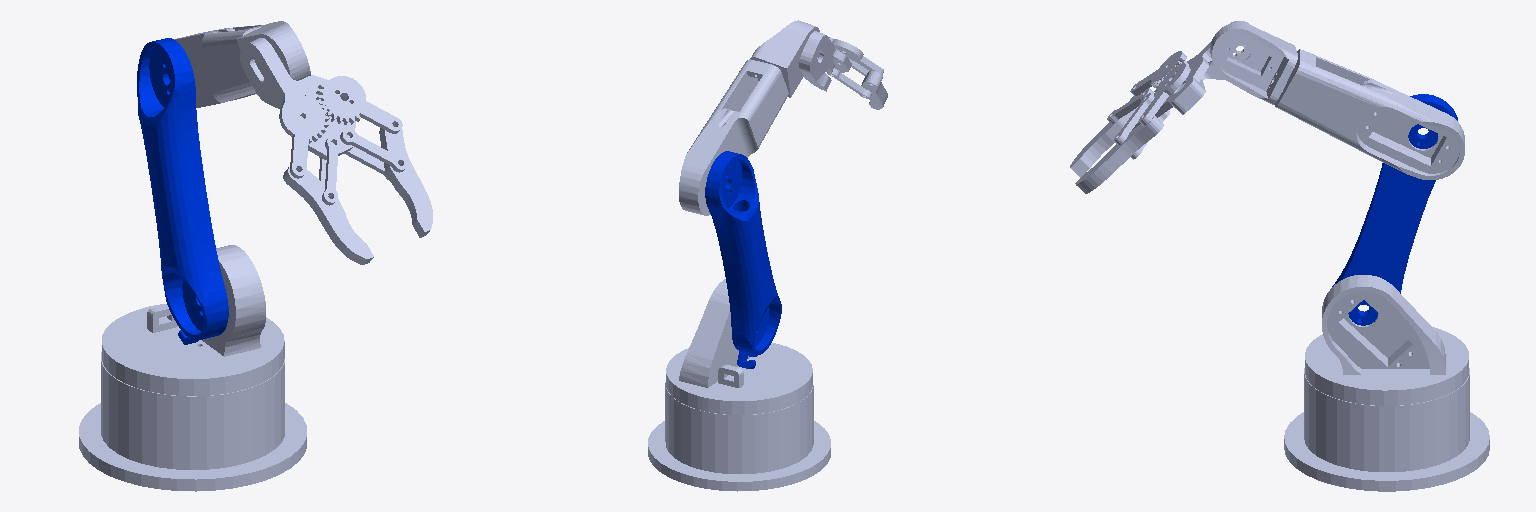
robot.urdf — RoboticArm:
<?xml version="1.0" encoding="utf-8"?>
<!-- This URDF was automatically created by SolidWorks to URDF Exporter! Originally created by [author] ([email redacted]) 
     Commit Version: 1.6.0-1-g15f4949  Build Version: 1.6.7594.29634
     For more information, please see http://wiki.ros.org/sw_urdf_exporter -->
<robot
  name="RoboticArm">
  <link
    name="base_link">
    <inertial>
      <origin
        xyz="0.0407792536350643 0.0496052423301395 0.0928795656917679"
        rpy="0 0 0" />
      <mass
        value="0.12604908910439" />
      <inertia
        ixx="0.000156906764758295"
        ixy="2.76735589435069E-22"
        ixz="1.29246970711408E-22"
        iyy="0.000259260220876787"
        iyz="3.55867639585126E-20"
        izz="0.000156906764758295" />
    </inertial>
    <visual>
      <origin
        xyz="0 0 0"
        rpy="0 0 0" />
      <geometry>
        <mesh
          filename="package://RoboticArm/meshes/base_link.STL" />
      </geometry>
      <material
        name="">
        <color
          rgba="0.792156862745098 0.819607843137255 0.933333333333333 1" />
      </material>
    </visual>
    <collision>
      <origin
        xyz="0 0 0"
        rpy="0 0 0" />
      <geometry>
        <mesh
          filename="package://RoboticArm/meshes/base_link.STL" />
      </geometry>
    </collision>
  </link>
  <link
    name="plate">
    <inertial>
      <origin
        xyz="-0.00348181803539307 0.013680039513843 -0.00110146162484924"
        rpy="0 0 0" />
      <mass
        value="0.106607057301156" />
      <inertia
        ixx="8.49969642300164E-05"
        ixy="7.31708330440521E-06"
        ixz="-1.12161447330865E-06"
        iyy="0.000105425752325564"
        iyz="6.30418300717581E-06"
        izz="7.44901951900708E-05" />
    </inertial>
    <visual>
      <origin
        xyz="0 0 0"
        rpy="0 0 0" />
      <geometry>
        <mesh
          filename="package://RoboticArm/meshes/plate.STL" />
      </geometry>
      <material
        name="">
        <color
          rgba="0.792156862745098 0.819607843137255 0.933333333333333 1" />
      </material>
    </visual>
    <collision>
      <origin
        xyz="0 0 0"
        rpy="0 0 0" />
      <geometry>
        <mesh
          filename="package://RoboticArm/meshes/plate.STL" />
      </geometry>
    </collision>
  </link>
  <joint
    name="base_to_plate"
    type="fixed">
    <origin
      xyz="0.040778 -0.092881 0.086108"
      rpy="1.5708 0 3.1416" />
    <parent
      link="base_link" />
    <child
      link="plate" />
    <axis
      xyz="0 0 0" />
  </joint>
  <link
    name="arm1">
    <inertial>
      <origin
        xyz="-0.000130107523910544 0.0585900554400583 0.00596879568554673"
        rpy="0 0 0" />
      <mass
        value="0.0643926908975187" />
      <inertia
        ixx="0.000107038200205104"
        ixy="-1.65200001443648E-09"
        ixz="2.38582116318295E-10"
        iyy="9.10999699360972E-06"
        iyz="2.39606114370457E-07"
        izz="0.000111844791293225" />
    </inertial>
    <visual>
      <origin
        xyz="0 0 0"
        rpy="0 0 0" />
      <geometry>
        <mesh
          filename="package://RoboticArm/meshes/arm1.STL" />
      </geometry>
      <material
        name="">
        <color
          rgba="0 0.254901960784314 0.92156862745098 1" />
      </material>
    </visual>
    <collision>
      <origin
        xyz="0 0 0"
        rpy="0 0 0" />
      <geometry>
        <mesh
          filename="package://RoboticArm/meshes/arm1.STL" />
      </geometry>
    </collision>
  </link>
  <joint
    name="plate_to_arm1"
    type="continuous">
    <origin
      xyz="0 0.040453 -0.013742"
      rpy="1.5708 1.2748 1.5708" />
    <parent
      link="plate" />
    <child
      link="arm1" />
    <axis
      xyz="0 0 1" />
  </joint>
  <link
    name="arm2">
    <inertial>
      <origin
        xyz="0.000277854090908025 0.0392852834270276 0.012408861309494"
        rpy="0 0 0" />
      <mass
        value="0.050268290046773" />
      <inertia
        ixx="5.46008476659968E-05"
        ixy="-6.95762442111047E-08"
        ixz="-5.70482612350729E-11"
        iyy="9.28678115786935E-06"
        iyz="-2.8752316699574E-07"
        izz="5.81489796492489E-05" />
    </inertial>
    <visual>
      <origin
        xyz="0 0 0"
        rpy="0 0 0" />
      <geometry>
        <mesh
          filename="package://RoboticArm/meshes/arm2.STL" />
      </geometry>
      <material
        name="">
        <color
          rgba="0.792156862745098 0.819607843137255 0.933333333333333 1" />
      </material>
    </visual>
    <collision>
      <origin
        xyz="0 0 0"
        rpy="0 0 0" />
      <geometry>
        <mesh
          filename="package://RoboticArm/meshes/arm2.STL" />
      </geometry>
    </collision>
  </link>
  <joint
    name="arm1_to_arm2"
    type="continuous">
    <origin
      xyz="0 0.12 0"
      rpy="3.1416 0 1.7476" />
    <parent
      link="arm1" />
    <child
      link="arm2" />
    <axis
      xyz="0 0 1" />
  </joint>
  <link
    name="littesupport">
    <inertial>
      <origin
        xyz="0.00504606327647605 0.0330023541981623 -0.00526461247520499"
        rpy="0 0 0" />
      <mass
        value="0.0164994591646359" />
      <inertia
        ixx="3.91221230465608E-06"
        ixy="1.15010694662439E-08"
        ixz="-3.99730134679921E-09"
        iyy="2.61245500437581E-06"
        iyz="5.75784785342775E-07"
        izz="5.0223585156069E-06" />
    </inertial>
    <visual>
      <origin
        xyz="0 0 0"
        rpy="0 0 0" />
      <geometry>
        <mesh
          filename="package://RoboticArm/meshes/littesupport.STL" />
      </geometry>
      <material
        name="">
        <color
          rgba="0.792156862745098 0.819607843137255 0.933333333333333 1" />
      </material>
    </visual>
    <collision>
      <origin
        xyz="0 0 0"
        rpy="0 0 0" />
      <geometry>
        <mesh
          filename="package://RoboticArm/meshes/littesupport.STL" />
      </geometry>
    </collision>
  </link>
  <joint
    name="arm2_to_litte_support"
    type="continuous">
    <origin
      xyz="-0.00505 0.076439 0.0125"
      rpy="0 0.17623 0" />
    <parent
      link="arm2" />
    <child
      link="littesupport" />
    <axis
      xyz="0 1 0" />
  </joint>
  <link
    name="littlesupport2">
    <inertial>
      <origin
        xyz="-0.0133733891093217 0.00581676496775496 0.0235511327187966"
        rpy="0 0 0" />
      <mass
        value="0.0157213996969813" />
      <inertia
        ixx="7.24744416899929E-06"
        ixy="-3.50347180867032E-07"
        ixz="-1.42854822214762E-06"
        iyy="8.11576195233211E-06"
        iyz="-1.36413025460123E-06"
        izz="2.5604584481162E-06" />
    </inertial>
    <visual>
      <origin
        xyz="0 0 0"
        rpy="0 0 0" />
      <geometry>
        <mesh
          filename="package://RoboticArm/meshes/littlesupport2.STL" />
      </geometry>
      <material
        name="">
        <color
          rgba="0.792156862745098 0.819607843137255 0.933333333333333 1" />
      </material>
    </visual>
    <collision>
      <origin
        xyz="0 0 0"
        rpy="0 0 0" />
      <geometry>
        <mesh
          filename="package://RoboticArm/meshes/littlesupport2.STL" />
      </geometry>
    </collision>
  </link>
  <joint
    name="littlesupport_to_littlesupport2"
    type="continuous">
    <origin
      xyz="0.005 0.043161 0"
      rpy="-0.41033 -1.5708 0.08758" />
    <parent
      link="littesupport" />
    <child
      link="littlesupport2" />
    <axis
      xyz="1 0 0" />
  </joint>
  <link
    name="geerright">
    <inertial>
      <origin
        xyz="-0.0501100983998741 0.0195 0.00284347811315948"
        rpy="0 0 0" />
      <mass
        value="0.00256585966934386" />
      <inertia
        ixx="9.68714144297744E-08"
        ixy="-5.62482816536059E-23"
        ixz="4.46722226156503E-08"
        iyy="4.46162551545417E-07"
        iyz="-5.9557004103818E-23"
        izz="3.56133429567227E-07" />
    </inertial>
    <visual>
      <origin
        xyz="0 0 0"
        rpy="0 0 0" />
      <geometry>
        <mesh
          filename="package://RoboticArm/meshes/geerright.STL" />
      </geometry>
      <material
        name="">
        <color
          rgba="0.792156862745098 0.819607843137255 0.933333333333333 1" />
      </material>
    </visual>
    <collision>
      <origin
        xyz="0 0 0"
        rpy="0 0 0" />
      <geometry>
        <mesh
          filename="package://RoboticArm/meshes/geerright.STL" />
      </geometry>
    </collision>
  </link>
  <joint
    name="littlesupport2_to_geerright"
    type="continuous">
    <origin
      xyz="-0.0206 0 0"
      rpy="3.1416 1.0844 3.1416" />
    <parent
      link="littlesupport2" />
    <child
      link="geerright" />
    <axis
      xyz="0.46742 0 -0.88403" />
  </joint>
  <link
    name="grabberr1">
    <inertial>
      <origin
        xyz="0.0132500225891743 0.0533645569241495 -0.0744786360385295"
        rpy="0 0 0" />
      <mass
        value="0.00539747492540316" />
      <inertia
        ixx="1.7139173615087E-06"
        ixy="1.25016368783866E-11"
        ixz="6.52045109329271E-12"
        iyy="1.59582906541738E-06"
        iyz="3.73412274090843E-07"
        izz="1.83082846319442E-07" />
    </inertial>
    <visual>
      <origin
        xyz="0 0 0"
        rpy="0 0 0" />
      <geometry>
        <mesh
          filename="package://RoboticArm/meshes/grabberr1.STL" />
      </geometry>
      <material
        name="">
        <color
          rgba="0.792156862745098 0.819607843137255 0.933333333333333 1" />
      </material>
    </visual>
    <collision>
      <origin
        xyz="0 0 0"
        rpy="0 0 0" />
      <geometry>
        <mesh
          filename="package://RoboticArm/meshes/grabberr1.STL" />
      </geometry>
    </collision>
  </link>
  <joint
    name="geerr_to_grabber"
    type="continuous">
    <origin
      xyz="-0.0070176 0 0.013272"
      rpy="0.67604 0 1.5708" />
    <parent
      link="geerright" />
    <child
      link="grabberr1" />
    <axis
      xyz="0 0.91776 0.39713" />
  </joint>
  <link
    name="geerleft">
    <inertial>
      <origin
        xyz="0.0474029973313519 0.0194999999999996 -0.00744274420445752"
        rpy="0 0 0" />
      <mass
        value="0.00264161328462975" />
      <inertia
        ixx="9.00461116469698E-08"
        ixy="5.62482816536059E-23"
        ixz="-9.25740848878218E-09"
        iyy="4.472396674933E-07"
        iyz="6.61744490042422E-24"
        izz="3.64237857938676E-07" />
    </inertial>
    <visual>
      <origin
        xyz="0 0 0"
        rpy="0 0 0" />
      <geometry>
        <mesh
          filename="package://RoboticArm/meshes/geerleft.STL" />
      </geometry>
      <material
        name="">
        <color
          rgba="0.792156862745098 0.819607843137255 0.933333333333333 1" />
      </material>
    </visual>
    <collision>
      <origin
        xyz="0 0 0"
        rpy="0 0 0" />
      <geometry>
        <mesh
          filename="package://RoboticArm/meshes/geerleft.STL" />
      </geometry>
    </collision>
  </link>
  <joint
    name="littlesupport2_to_geerleft"
    type="continuous">
    <origin
      xyz="-0.0055866 0 0"
      rpy="3.1416 -0.95002 3.1416" />
    <parent
      link="littlesupport2" />
    <child
      link="geerleft" />
    <axis
      xyz="0.58167 0 0.81343" />
  </joint>
  <link
    name="grabberl1">
    <inertial>
      <origin
        xyz="-0.0132499774170393 0.0584441281939657 -0.0731843213818451"
        rpy="0 0 0" />
      <mass
        value="0.00539747241029236" />
      <inertia
        ixx="1.71391105519726E-06"
        ixy="1.25534085234425E-11"
        ixz="6.53217985819288E-12"
        iyy="1.59582707278213E-06"
        iyz="3.73412926182567E-07"
        izz="1.83078515204332E-07" />
    </inertial>
    <visual>
      <origin
        xyz="0 0 0"
        rpy="0 0 0" />
      <geometry>
        <mesh
          filename="package://RoboticArm/meshes/grabberl1.STL" />
      </geometry>
      <material
        name="">
        <color
          rgba="0.792156862745098 0.819607843137255 0.933333333333333 1" />
      </material>
    </visual>
    <collision>
      <origin
        xyz="0 0 0"
        rpy="0 0 0" />
      <geometry>
        <mesh
          filename="package://RoboticArm/meshes/grabberl1.STL" />
      </geometry>
    </collision>
  </link>
  <joint
    name="geerleft_to_grabberl"
    type="continuous">
    <origin
      xyz="0.0021927 0 0.0030663"
      rpy="0.56951 0 -1.5708" />
    <parent
      link="geerleft" />
    <child
      link="grabberl1" />
    <axis
      xyz="0 0.92847 0.3714" />
  </joint>
  <link
    name="suppright">
    <inertial>
      <origin
        xyz="-0.0676291985647798 0.0195000000000004 -0.0267734029268266"
        rpy="0 0 0" />
      <mass
        value="0.000798762413184688" />
      <inertia
        ixx="3.63250422363009E-09"
        ixy="-4.1876018510497E-23"
        ixz="-9.02660843448491E-23"
        iyy="1.04424225659603E-07"
        iyz="6.61744490042422E-24"
        izz="1.02921754537799E-07" />
    </inertial>
    <visual>
      <origin
        xyz="0 0 0"
        rpy="0 0 0" />
      <geometry>
        <mesh
          filename="package://RoboticArm/meshes/suppright.STL" />
      </geometry>
      <material
        name="">
        <color
          rgba="0.792156862745098 0.819607843137255 0.933333333333333 1" />
      </material>
    </visual>
    <collision>
      <origin
        xyz="0 0 0"
        rpy="0 0 0" />
      <geometry>
        <mesh
          filename="package://RoboticArm/meshes/suppright.STL" />
      </geometry>
    </collision>
  </link>
  <joint
    name="suppright_to_grabber"
    type="continuous">
    <origin
      xyz="-0.014733 0 0"
      rpy="3.1416 0.9528 -3.1416" />
    <parent
      link="littlesupport2" />
    <child
      link="suppright" />
    <axis
      xyz="0.57941 0 -0.81504" />
  </joint>
  <link
    name="grabberr2">
    <inertial>
      <origin
        xyz="0.0132500225891743 0.0533645569241495 -0.0744786360385295"
        rpy="0 0 0" />
      <mass
        value="0.00539747492540316" />
      <inertia
        ixx="1.7139173615087E-06"
        ixy="1.25016368783899E-11"
        ixz="6.5204510932497E-12"
        iyy="1.59582906541738E-06"
        iyz="3.73412274090843E-07"
        izz="1.83082846319442E-07" />
    </inertial>
    <visual>
      <origin
        xyz="0 0 0"
        rpy="0 0 0" />
      <geometry>
        <mesh
          filename="package://RoboticArm/meshes/grabberr2.STL" />
      </geometry>
      <material
        name="">
        <color
          rgba="0.792156862745098 0.819607843137255 0.933333333333333 1" />
      </material>
    </visual>
    <collision>
      <origin
        xyz="0 0 0"
        rpy="0 0 0" />
      <geometry>
        <mesh
          filename="package://RoboticArm/meshes/grabberr2.STL" />
      </geometry>
    </collision>
  </link>
  <joint
    name="sur_to_grabber"
    type="continuous">
    <origin
      xyz="-0.0052992 0 0.0074543"
      rpy="0.54441 0 1.5708" />
    <parent
      link="suppright" />
    <child
      link="grabberr2" />
    <axis
      xyz="0 0.91776 0.39713" />
  </joint>
  <link
    name="suppleft">
    <inertial>
      <origin
        xyz="-0.0654875920394475 -0.0195000000000002 -0.0297111609337834"
        rpy="0 0 0" />
      <mass
        value="0.000798762413184692" />
      <inertia
        ixx="3.63250422363012E-09"
        ixy="-9.0989867380833E-24"
        ixz="5.46456192167844E-23"
        iyy="1.04424225659604E-07"
        iyz="0"
        izz="1.02921754537799E-07" />
    </inertial>
    <visual>
      <origin
        xyz="0 0 0"
        rpy="0 0 0" />
      <geometry>
        <mesh
          filename="package://RoboticArm/meshes/suppleft.STL" />
      </geometry>
      <material
        name="">
        <color
          rgba="0.792156862745098 0.819607843137255 0.933333333333333 1" />
      </material>
    </visual>
    <collision>
      <origin
        xyz="0 0 0"
        rpy="0 0 0" />
      <geometry>
        <mesh
          filename="package://RoboticArm/meshes/suppleft.STL" />
      </geometry>
    </collision>
  </link>
  <joint
    name="suppleft_to_grabber"
    type="continuous">
    <origin
      xyz="-0.012165 0 0"
      rpy="-3.1416 0.9625 0" />
    <parent
      link="littlesupport2" />
    <child
      link="suppleft" />
    <axis
      xyz="0.57147 0 -0.82062" />
  </joint>
  <link
    name="grabberl2">
    <inertial>
      <origin
        xyz="-0.0132499774170393 0.0584441281939657 -0.0731843213818451"
        rpy="0 0 0" />
      <mass
        value="0.00539747241029236" />
      <inertia
        ixx="1.71391105519726E-06"
        ixy="1.25534085233366E-11"
        ixz="6.53217985833516E-12"
        iyy="1.59582707278213E-06"
        iyz="3.73412926182567E-07"
        izz="1.83078515204332E-07" />
    </inertial>
    <visual>
      <origin
        xyz="0 0 0"
        rpy="0 0 0" />
      <geometry>
        <mesh
          filename="package://RoboticArm/meshes/grabberl2.STL" />
      </geometry>
      <material
        name="">
        <color
          rgba="0.792156862745098 0.819607843137255 0.933333333333333 1" />
      </material>
    </visual>
    <collision>
      <origin
        xyz="0 0 0"
        rpy="0 0 0" />
      <geometry>
        <mesh
          filename="package://RoboticArm/meshes/grabberl2.STL" />
      </geometry>
    </collision>
  </link>
  <joint
    name="sul_to_grabberl"
    type="continuous">
    <origin
      xyz="0.0016052 0 -0.0023051"
      rpy="0.58199 0 1.5708" />
    <parent
      link="suppleft" />
    <child
      link="grabberl2" />
    <axis
      xyz="0 0.92847 0.3714" />
  </joint>
  <link
    name="supprightdown">
    <inertial>
      <origin
        xyz="-0.0676291985647792 0.00700000000000012 -0.0267734029268272"
        rpy="0 0 0" />
      <mass
        value="0.000798762413184691" />
      <inertia
        ixx="3.63250422363008E-09"
        ixy="-2.85377311330795E-23"
        ixz="-4.81884405600423E-22"
        iyy="1.04424225659604E-07"
        iyz="3.30872245021211E-24"
        izz="1.02921754537799E-07" />
    </inertial>
    <visual>
      <origin
        xyz="0 0 0"
        rpy="0 0 0" />
      <geometry>
        <mesh
          filename="package://RoboticArm/meshes/supprightdown.STL" />
      </geometry>
      <material
        name="">
        <color
          rgba="0.792156862745098 0.819607843137255 0.933333333333333 1" />
      </material>
    </visual>
    <collision>
      <origin
        xyz="0 0 0"
        rpy="0 0 0" />
      <geometry>
        <mesh
          filename="package://RoboticArm/meshes/supprightdown.STL" />
      </geometry>
    </collision>
  </link>
  <joint
    name="supprightdown_to_grabber"
    type="continuous">
    <origin
      xyz="-0.014733 0 0"
      rpy="3.1416 0.9528 -3.1416" />
    <parent
      link="littlesupport2" />
    <child
      link="supprightdown" />
    <axis
      xyz="0.57941 0 -0.81504" />
  </joint>
  <link
    name="grabberr3">
    <inertial>
      <origin
        xyz="0.0132500225891743 0.0533645569241495 -0.0744786360385295"
        rpy="0 0 0" />
      <mass
        value="0.00539747492540316" />
      <inertia
        ixx="1.7139173615087E-06"
        ixy="1.25016368783866E-11"
        ixz="6.52045109329271E-12"
        iyy="1.59582906541738E-06"
        iyz="3.73412274090843E-07"
        izz="1.83082846319442E-07" />
    </inertial>
    <visual>
      <origin
        xyz="0 0 0"
        rpy="0 0 0" />
      <geometry>
        <mesh
          filename="package://RoboticArm/meshes/grabberr3.STL" />
      </geometry>
      <material
        name="">
        <color
          rgba="0.792156862745098 0.819607843137255 0.933333333333333 1" />
      </material>
    </visual>
    <collision>
      <origin
        xyz="0 0 0"
        rpy="0 0 0" />
      <geometry>
        <mesh
          filename="package://RoboticArm/meshes/grabberr3.STL" />
      </geometry>
    </collision>
  </link>
  <joint
    name="sdr_to_grabber"
    type="continuous">
    <origin
      xyz="-0.0052992 0 0.0074543"
      rpy="0.54441 0 1.5708" />
    <parent
      link="supprightdown" />
    <child
      link="grabberr3" />
    <axis
      xyz="0 0.91776 0.39713" />
  </joint>
  <link
    name="suppleftdown">
    <inertial>
      <origin
        xyz="-0.0654875920394477 0.00700000000000045 0.0297111609337833"
        rpy="0 0 0" />
      <mass
        value="0.00079876241318469" />
      <inertia
        ixx="3.63250422363011E-09"
        ixy="1.62468612063072E-21"
        ixz="-2.32075860609409E-22"
        iyy="1.04424225659604E-07"
        iyz="1.81979734761666E-23"
        izz="1.02921754537799E-07" />
    </inertial>
    <visual>
      <origin
        xyz="0 0 0"
        rpy="0 0 0" />
      <geometry>
        <mesh
          filename="package://RoboticArm/meshes/suppleftdown.STL" />
      </geometry>
      <material
        name="">
        <color
          rgba="0.792156862745098 0.819607843137255 0.933333333333333 1" />
      </material>
    </visual>
    <collision>
      <origin
        xyz="0 0 0"
        rpy="0 0 0" />
      <geometry>
        <mesh
          filename="package://RoboticArm/meshes/suppleftdown.STL" />
      </geometry>
    </collision>
  </link>
  <joint
    name="suppleftdown_to_grabber"
    type="continuous">
    <origin
      xyz="-0.012165 0 0"
      rpy="0 0.9625 0" />
    <parent
      link="littlesupport2" />
    <child
      link="suppleftdown" />
    <axis
      xyz="0.57147 0 0.82062" />
  </joint>
  <link
    name="grabberl3">
    <inertial>
      <origin
        xyz="-0.0132499774170393 0.0584441281939657 -0.0731843213818451"
        rpy="0 0 0" />
      <mass
        value="0.00539747241029236" />
      <inertia
        ixx="1.71391105519726E-06"
        ixy="1.25534085233366E-11"
        ixz="6.53217985833516E-12"
        iyy="1.59582707278213E-06"
        iyz="3.73412926182567E-07"
        izz="1.83078515204332E-07" />
    </inertial>
    <visual>
      <origin
        xyz="0 0 0"
        rpy="0 0 0" />
      <geometry>
        <mesh
          filename="package://RoboticArm/meshes/grabberl3.STL" />
      </geometry>
      <material
        name="">
        <color
          rgba="0.792156862745098 0.819607843137255 0.933333333333333 1" />
      </material>
    </visual>
    <collision>
      <origin
        xyz="0 0 0"
        rpy="0 0 0" />
      <geometry>
        <mesh
          filename="package://RoboticArm/meshes/grabberl3.STL" />
      </geometry>
    </collision>
  </link>
  <joint
    name="sdl_to_grabber"
    type="continuous">
    <origin
      xyz="0.0016052 0 0.0023051"
      rpy="-2.5596 0 -1.5708" />
    <parent
      link="suppleftdown" />
    <child
      link="grabberl3" />
    <axis
      xyz="0 0.92847 0.3714" />
  </joint>
</robot>

--- Facts derived from the render (not from the file) ---
The picture shows the robot from 3 angles, left to right: view 1: azimuth 30°, elevation 25°; view 2: azimuth 150°, elevation 25°; view 3: azimuth 270°, elevation 25°; orthographic projection.
Robot: RoboticArm — 18 links, 17 joints (16 continuous, 1 fixed); root link base_link; default pose: every joint at zero.
Links seen in each view (by area): view 1: base_link, arm1, plate, arm2, littlesupport2, grabberl1, geerright, geerleft, grabberr1, littesupport, suppright, suppleft; view 2: base_link, plate, arm1, arm2, littesupport, littlesupport2, grabberl1, geerleft; view 3: base_link, plate, arm2, arm1, littesupport, littlesupport2, grabberr1, grabberl1, geerright, geerleft, suppright.
Link boxes in pixels (bbox=[...]): base_link: bbox=[79, 352, 306, 491]; arm1: bbox=[137, 38, 228, 344]; plate: bbox=[102, 245, 284, 395]; arm2: bbox=[174, 24, 266, 107]; littlesupport2: bbox=[240, 38, 355, 159]; grabberl1: bbox=[283, 166, 373, 264]; geerright: bbox=[316, 76, 402, 133]; geerleft: bbox=[279, 92, 329, 178]; grabberr1: bbox=[379, 124, 432, 237]; littesupport: bbox=[236, 21, 310, 80]; suppright: bbox=[340, 128, 407, 172]; suppleft: bbox=[322, 135, 341, 205]; base_link: bbox=[648, 382, 830, 491]; plate: bbox=[666, 279, 812, 414]; arm1: bbox=[705, 151, 781, 368]; arm2: bbox=[679, 59, 788, 215]; littesupport: bbox=[750, 20, 819, 97]; littlesupport2: bbox=[799, 31, 851, 80]; grabberl1: bbox=[861, 70, 887, 109]; geerleft: bbox=[829, 37, 883, 74]; base_link: bbox=[1284, 368, 1489, 491]; plate: bbox=[1305, 275, 1468, 405]; arm2: bbox=[1275, 49, 1464, 179]; arm1: bbox=[1332, 94, 1457, 325]; littesupport: bbox=[1210, 22, 1297, 104]; littlesupport2: bbox=[1155, 21, 1250, 117]; grabberr1: bbox=[1075, 116, 1163, 193]; grabberl1: bbox=[1070, 93, 1153, 177]; geerright: bbox=[1139, 60, 1190, 125]; geerleft: bbox=[1130, 51, 1186, 96]; suppright: bbox=[1113, 93, 1154, 144].
Size in the robot's own frame: 0.1208 by 0.2473 by 0.2766 metres.
14 mesh visuals loaded from 18 distinct referenced files (14 binary STL); not drawn: 4 (reference not matched to a file when rendering).